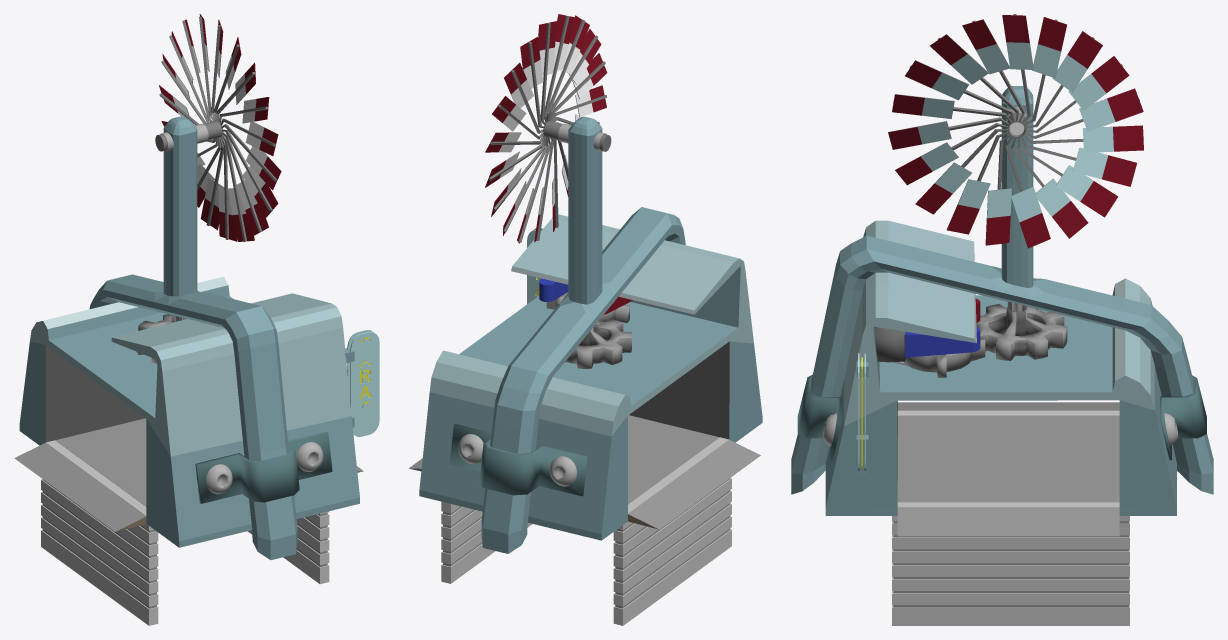
Rendered from garage.fbx.
The picture shows the model from 3 angles, left to right: view 1: azimuth 30°, elevation 25°; view 2: azimuth 150°, elevation 25°; view 3: azimuth 270°, elevation 25°; orthographic projection. The views are drawn at different scales.
Visible parts, largest first — view 1: garage, pales, GARAGEDOOR_BACK, WindMillReincorcements, GaragePanel, GARAGEDOOR_FRONT; view 2: garage, pales, GARAGEDOOR_BACK, WindMillReincorcements.001, GARAGEDOOR_FRONT, rotor, magnet, rotor._spire; view 3: garage, pales, GARAGEDOOR_FRONT, rotor, WindMillReincorcements.001, WindMillReincorcements, magnet, GARAGEDOOR_BACK, rotor._spire, magnet_base.
Part boxes in pixels (left/top/right/bottom): garage: left=14, top=116, right=363, bottom=559; pales: left=155, top=14, right=281, bottom=241; GARAGEDOOR_BACK: left=41, top=440, right=158, bottom=625; WindMillReincorcements: left=195, top=431, right=332, bottom=503; GaragePanel: left=350, top=332, right=379, bottom=436; GARAGEDOOR_FRONT: left=247, top=511, right=329, bottom=584; garage: left=408, top=116, right=762, bottom=553; pales: left=485, top=14, right=611, bottom=243; GARAGEDOOR_BACK: left=613, top=437, right=731, bottom=625; WindMillReincorcements.001: left=450, top=424, right=587, bottom=496; GARAGEDOOR_FRONT: left=441, top=501, right=532, bottom=583; rotor: left=564, top=319, right=631, bottom=368; magnet: left=539, top=278, right=632, bottom=314; rotor._spire: left=546, top=292, right=629, bottom=322; garage: left=791, top=86, right=1213, bottom=536; pales: left=888, top=14, right=1143, bottom=248; GARAGEDOOR_FRONT: left=892, top=502, right=1129, bottom=625; rotor: left=976, top=302, right=1067, bottom=360; WindMillReincorcements.001: left=1160, top=375, right=1206, bottom=460; WindMillReincorcements: left=797, top=375, right=841, bottom=461; magnet: left=905, top=298, right=980, bottom=357; GARAGEDOOR_BACK: left=897, top=410, right=1119, bottom=415; rotor._spire: left=892, top=337, right=985, bottom=377; magnet_base: left=874, top=326, right=906, bottom=362.
Size of the model in its own units: 53.22 by 70.97 by 108.
